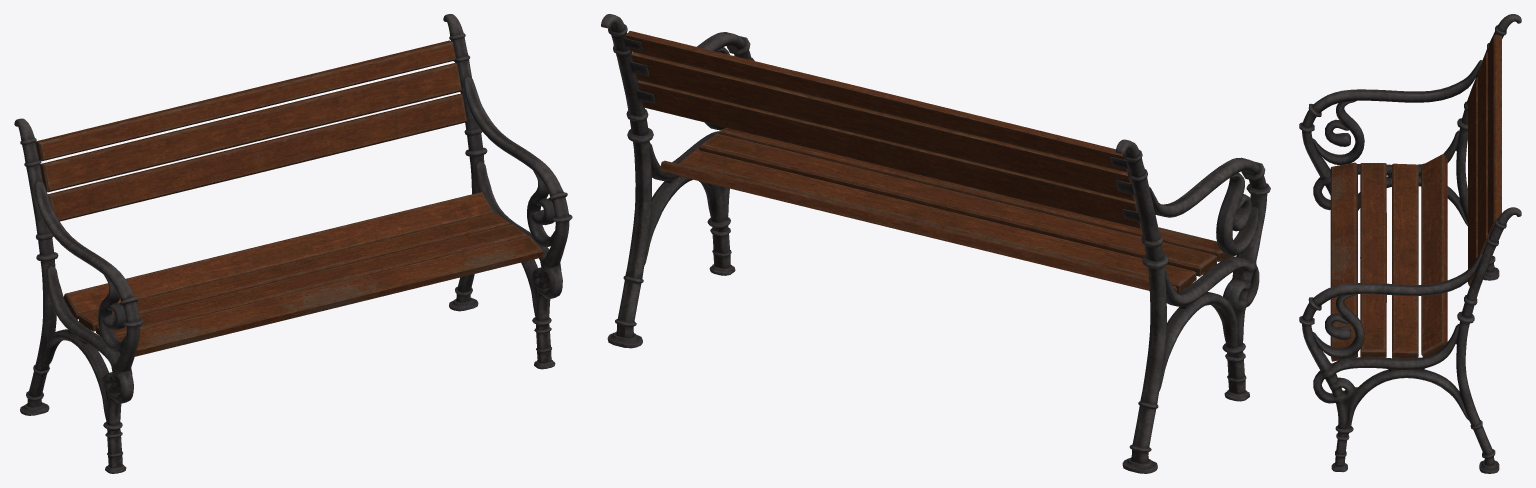
Rendered from park_bench_3c855baf.glb.
3 views of the same model, side by side, from view 1: azimuth 30°, elevation 25°; view 2: azimuth 150°, elevation 25°; view 3: azimuth 270°, elevation 25° (orthographic). The views are drawn at different scales.
Visible parts, largest first — view 1: park_bench_3c855baf; view 2: park_bench_3c855baf; view 3: park_bench_3c855baf.
Part boxes in pixels (<box>): park_bench_3c855baf: <box>14,14,572,473</box>; park_bench_3c855baf: <box>601,14,1270,473</box>; park_bench_3c855baf: <box>1299,14,1521,473</box>.
Bounding box in the file's own units: 1.57 × 0.9285 × 0.7197.
1 material, 1 textured.
